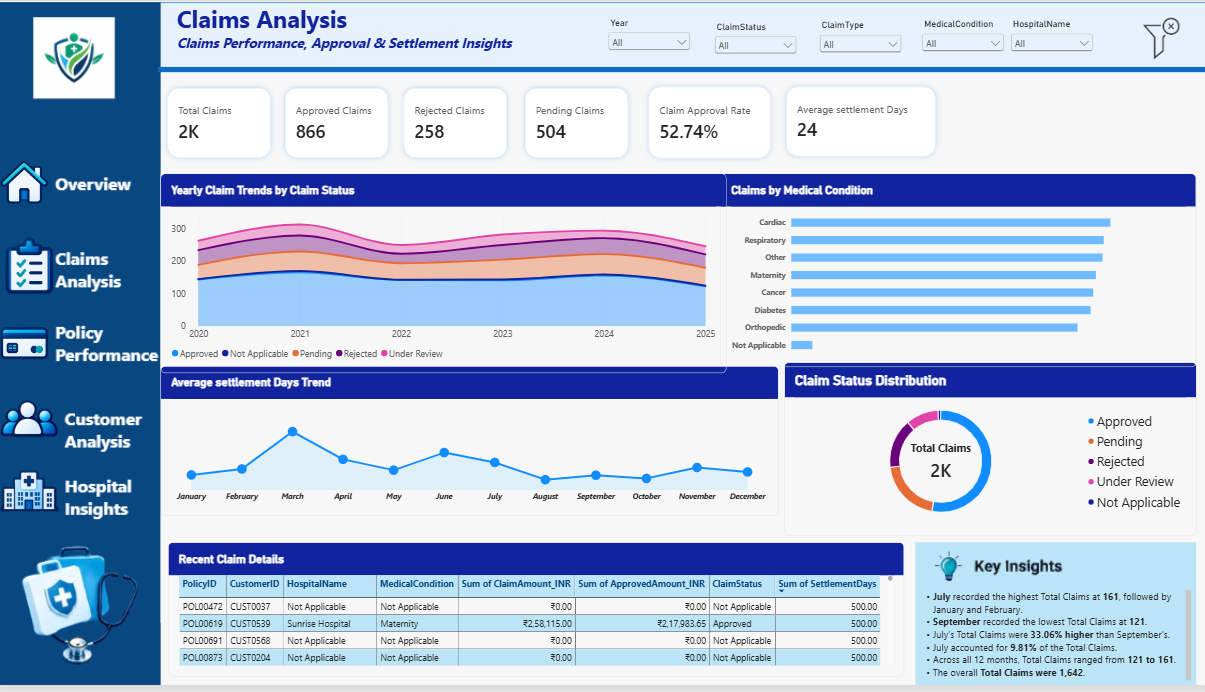

Layout of this report page (visuals, bound fields, positions):
{"tool":"powerbi","page":{"name":"Claims Analysis","canvas":[1920,1080],"ordinal":1},"visuals":[{"type":"donutChart","title":" Claim Status Distribution","fields":{"Category":["Fact_InsuranceTransactions.ClaimStatus"],"Y":["DAX Measures.Total Claims"]},"box":[1240.8,570.7,651.4,274.1],"z":1000},{"type":"barChart","title":"Claims by Medical Condition","fields":{"Category":["Fact_InsuranceTransactions.MedicalCondition"],"Y":["DAX Measures.Total Claims"]},"box":[1141.3,272.2,750.9,306],"z":2000},{"type":"areaChart","title":"Average settlement Days Trend","fields":{"Category":["Dim_Date.Date.Variation.Date Hierarchy.Month"],"Y":["DAX Measures.Average settlement Days"]},"box":[257.2,576.3,976.1,236.5],"z":3000},{"type":"shape","box":[0,2.1,1920,110.6],"z":4000},{"type":"tableEx","title":"Recent Claim Details","fields":{"Values":["Fact_InsuranceTransactions.PolicyID","Fact_InsuranceTransactions.CustomerID","Fact_InsuranceTransactions.HospitalName","Fact_InsuranceTransactions.MedicalCondition","Sum(Fact_InsuranceTransactions.ClaimAmount_INR)","Sum(Fact_InsuranceTransactions.ApprovedAmount_INR)","Fact_InsuranceTransactions.ClaimStatus","Sum(Fact_InsuranceTransactions.SettlementDays)"]},"box":[268.2,855.1,1162.1,211.8],"z":5000},{"type":"slicer","fields":{"Values":["Dim_Date.Date.Variation.Date Hierarchy.Year"]},"box":[960,25.1,138.2,80.4],"z":6000},{"type":"slicer","fields":{"Values":["Fact_InsuranceTransactions.ClaimStatus"]},"box":[1126.5,31.9,138.2,80.4],"z":7000},{"type":"slicer","fields":{"Values":["Fact_InsuranceTransactions.ClaimType"]},"box":[1292.9,29.6,138.2,80.4],"z":8000},{"type":"slicer","fields":{"Values":["Fact_InsuranceTransactions.MedicalCondition"]},"box":[1454.8,27.4,138.2,80.4],"z":9000},{"type":"slicer","fields":{"Values":["Fact_InsuranceTransactions.HospitalName"]},"box":[1593.9,27.4,138.2,80.4],"z":10000},{"type":"image","box":[0,2.1,256.7,1079],"z":11000},{"type":"image","box":[0,327.6,99.4,180.4],"z":12000},{"type":"image","box":[0,230.3,82.8,110.4],"z":13000},{"type":"image","box":[0,480.4,82.8,121.5],"z":14000},{"type":"image","box":[0,596.3,99.4,127],"z":15000},{"type":"image","box":[0,704.9,99.4,138],"z":16000},{"type":"textbox","box":[282.8,2.3,615.7,125.4],"z":17000},{"type":"image","box":[1780.2,20.9,112.7,75.1],"z":18000},{"type":"cardVisual","fields":{"Data":["DAX Measures.Total Claims"]},"box":[256.5,126.3,185.9,132.5],"z":19000},{"type":"cardVisual","fields":{"Data":["DAX Measures.Approved Claims"]},"box":[443.1,126.3,185.9,132.5],"z":20000},{"type":"cardVisual","fields":{"Data":["DAX Measures.Rejected Claims"]},"box":[629.6,126.3,185.9,132.5],"z":21000},{"type":"cardVisual","fields":{"Data":["DAX Measures.Pending Claims"]},"box":[820.9,125.4,185.9,132.5],"z":22000},{"type":"cardVisual","fields":{"Data":["DAX Measures.Claim Approval Rate"]},"box":[1015.6,123.9,214,135.2],"z":23000},{"type":"cardVisual","fields":{"Data":["DAX Measures.Average settlement Days"]},"box":[1233.3,123.9,258.5,132.1],"z":24000},{"type":"shape","box":[253.4,99.5,1667,18.8],"z":25000},{"type":"textbox","title":"Key Insights","box":[1447.8,855.1,443.1,225.4],"z":26000},{"type":"image","box":[1406.9,855.1,374,66.1],"z":27000},{"type":"textbox","box":[1454.8,930.4,429,150],"z":28000},{"type":"stackedAreaChart","title":"Yearly Claim Trends by Claim Status","fields":{"Category":["Dim_Date.Date.Variation.Date Hierarchy.Year","Dim_Date.Date.Variation.Date Hierarchy.Month"],"Series":["Fact_InsuranceTransactions.ClaimStatus"],"Y":["DAX Measures.Total Claims"]},"box":[256.7,272.4,893.6,315.5],"z":28001}]}

Visuals, with their boxes in screenshot pixels (x1, y1, x2, y2), scaled from the page's 1920x1080 canvas onto the 1205x692 screenshot:
" Claim Status Distribution" donutChart: bbox=(779, 366, 1188, 541)
"Claims by Medical Condition" barChart: bbox=(716, 174, 1188, 370)
"Average settlement Days Trend" areaChart: bbox=(161, 369, 774, 521)
shape: bbox=(0, 1, 1204, 72)
"Recent Claim Details" tableEx: bbox=(168, 548, 898, 684)
slicer - Dim_Date.Date.Variation.Date Hierarchy.Year: bbox=(602, 16, 689, 68)
slicer - Fact_InsuranceTransactions.ClaimStatus: bbox=(707, 20, 794, 72)
slicer - Fact_InsuranceTransactions.ClaimType: bbox=(811, 19, 898, 70)
slicer - Fact_InsuranceTransactions.MedicalCondition: bbox=(913, 18, 1000, 69)
slicer - Fact_InsuranceTransactions.HospitalName: bbox=(1000, 18, 1087, 69)
image: bbox=(0, 1, 161, 691)
image: bbox=(0, 210, 62, 325)
image: bbox=(0, 148, 52, 218)
image: bbox=(0, 308, 52, 386)
image: bbox=(0, 382, 62, 463)
image: bbox=(0, 452, 62, 540)
textbox: bbox=(177, 1, 564, 82)
image: bbox=(1117, 13, 1188, 62)
cardVisual - DAX Measures.Total Claims: bbox=(161, 81, 278, 166)
cardVisual - DAX Measures.Approved Claims: bbox=(278, 81, 395, 166)
cardVisual - DAX Measures.Rejected Claims: bbox=(395, 81, 512, 166)
cardVisual - DAX Measures.Pending Claims: bbox=(515, 80, 632, 165)
cardVisual - DAX Measures.Claim Approval Rate: bbox=(637, 79, 772, 166)
cardVisual - DAX Measures.Average settlement Days: bbox=(774, 79, 936, 164)
shape: bbox=(159, 64, 1204, 76)
"Key Insights" textbox: bbox=(909, 548, 1187, 691)
image: bbox=(883, 548, 1118, 590)
textbox: bbox=(913, 596, 1182, 691)
"Yearly Claim Trends by Claim Status" stackedAreaChart: bbox=(161, 175, 722, 377)
